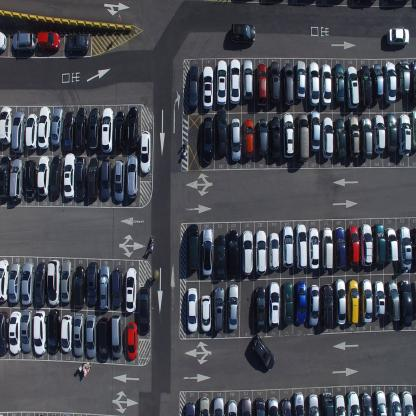car: (251, 334, 275, 371), (397, 112, 412, 157), (9, 157, 24, 202), (398, 225, 412, 273), (345, 64, 360, 108), (296, 112, 309, 162), (359, 221, 373, 267), (11, 108, 25, 154), (201, 227, 214, 276), (37, 105, 51, 150), (8, 309, 22, 354), (398, 279, 411, 327), (101, 106, 114, 154), (47, 258, 60, 306), (346, 223, 360, 267), (358, 64, 372, 108), (74, 107, 88, 151), (371, 113, 386, 154), (216, 107, 228, 158), (254, 229, 267, 276), (307, 61, 320, 108), (111, 312, 124, 359), (295, 222, 308, 268), (346, 278, 359, 324), (47, 308, 60, 354), (33, 308, 46, 354), (187, 222, 199, 271), (386, 280, 400, 322), (241, 230, 254, 275), (320, 225, 333, 270), (347, 115, 360, 160), (360, 115, 373, 160), (86, 261, 99, 306), (60, 259, 73, 304), (34, 262, 47, 307), (215, 60, 227, 108), (202, 116, 214, 164), (63, 151, 75, 199), (373, 222, 386, 266), (230, 22, 256, 44), (334, 116, 347, 160), (383, 60, 396, 104), (113, 159, 126, 203), (87, 156, 100, 200), (126, 104, 138, 151), (138, 284, 149, 335), (321, 116, 334, 159), (88, 107, 101, 150), (396, 59, 411, 96), (360, 278, 372, 324), (334, 278, 346, 324), (282, 112, 294, 158), (12, 30, 36, 53), (125, 266, 137, 312), (85, 312, 97, 358), (73, 312, 85, 358), (227, 227, 238, 277), (64, 34, 89, 56), (0, 104, 13, 146), (8, 261, 21, 303), (242, 57, 254, 102), (75, 156, 87, 201), (73, 264, 85, 309), (22, 260, 34, 305), (372, 279, 386, 317), (228, 283, 239, 331), (282, 224, 294, 268), (334, 226, 346, 270), (282, 62, 294, 106), (333, 62, 345, 106), (50, 154, 62, 198), (99, 263, 110, 311), (21, 308, 33, 352), (36, 30, 61, 51), (268, 280, 279, 327), (0, 154, 11, 201), (385, 111, 397, 154), (202, 64, 213, 110), (255, 285, 266, 331), (213, 286, 224, 332), (230, 116, 241, 162), (295, 279, 306, 325), (282, 280, 293, 326), (187, 286, 198, 332), (127, 153, 138, 199), (256, 61, 267, 107), (269, 60, 280, 106), (99, 316, 110, 362), (100, 158, 112, 200), (51, 105, 63, 147), (37, 154, 49, 196), (25, 158, 37, 200), (140, 129, 151, 174), (215, 234, 226, 279), (308, 226, 319, 271), (321, 62, 332, 107), (309, 108, 320, 153), (371, 63, 384, 101), (60, 314, 72, 355), (188, 64, 199, 108), (321, 284, 332, 328), (230, 57, 240, 105), (308, 283, 319, 326), (115, 109, 126, 152), (63, 110, 74, 153), (26, 111, 38, 150), (243, 117, 254, 159), (112, 266, 123, 308), (386, 26, 409, 46), (268, 233, 280, 271), (257, 117, 268, 158), (270, 115, 280, 159), (386, 226, 398, 262), (0, 258, 9, 305), (200, 294, 211, 332), (296, 59, 306, 100), (399, 390, 415, 415), (386, 391, 402, 416), (127, 321, 137, 360), (0, 309, 8, 357), (346, 390, 361, 415), (291, 390, 305, 415), (374, 389, 387, 415), (320, 392, 334, 415), (360, 392, 373, 415), (306, 393, 319, 415), (410, 60, 416, 105), (334, 394, 346, 416), (410, 109, 416, 152), (212, 396, 225, 415), (254, 395, 266, 415), (410, 280, 416, 319), (240, 396, 252, 415), (267, 395, 278, 415), (226, 397, 238, 415), (279, 397, 291, 415), (199, 395, 209, 415), (185, 400, 196, 416), (0, 30, 7, 54), (412, 225, 415, 265)
